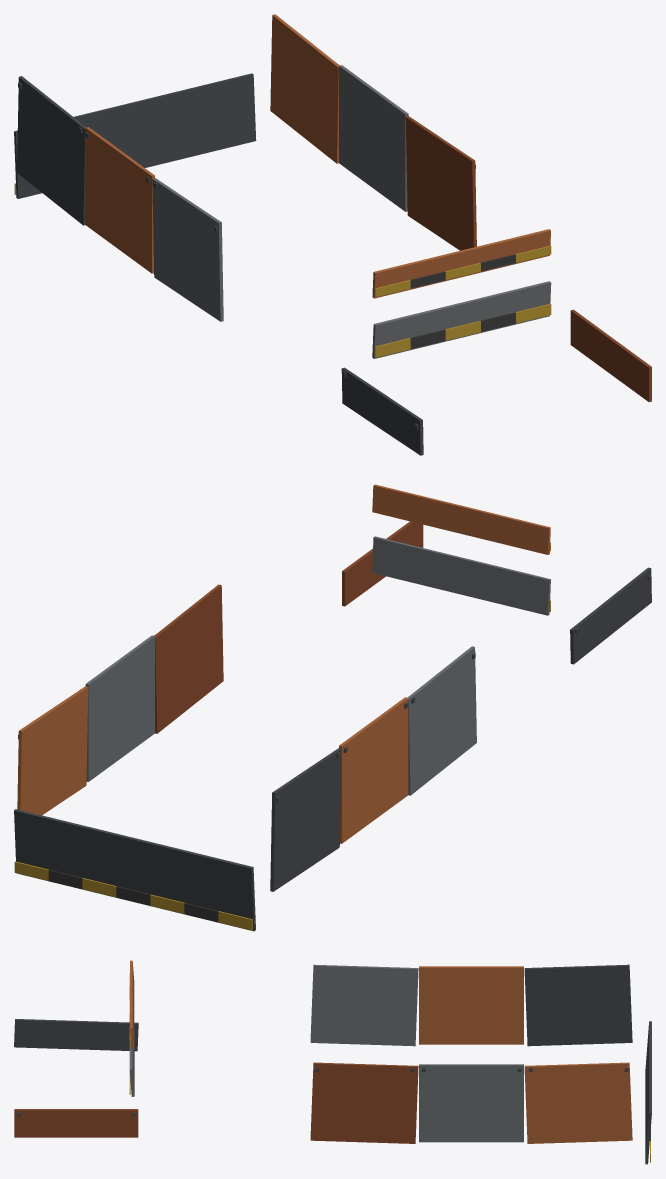
The model's file is upg_armor_plates_t5.glb.
3 renders of one model, top to bottom at view 1: azimuth 30°, elevation 25°; view 2: azimuth 150°, elevation 25°; view 3: azimuth 270°, elevation 25°, orthographic. The views are drawn at different scales.
Parts seen in each view (by area): view 1: armor_plates; view 2: armor_plates; view 3: armor_plates.
Boxes of the visible parts, box(x1,y1,x2,y2) form: armor_plates: box(14, 14, 651, 455); armor_plates: box(14, 484, 651, 931); armor_plates: box(14, 960, 651, 1164).
Bounding box in the file's own units: 2.51 × 1.45 × 6.76.
